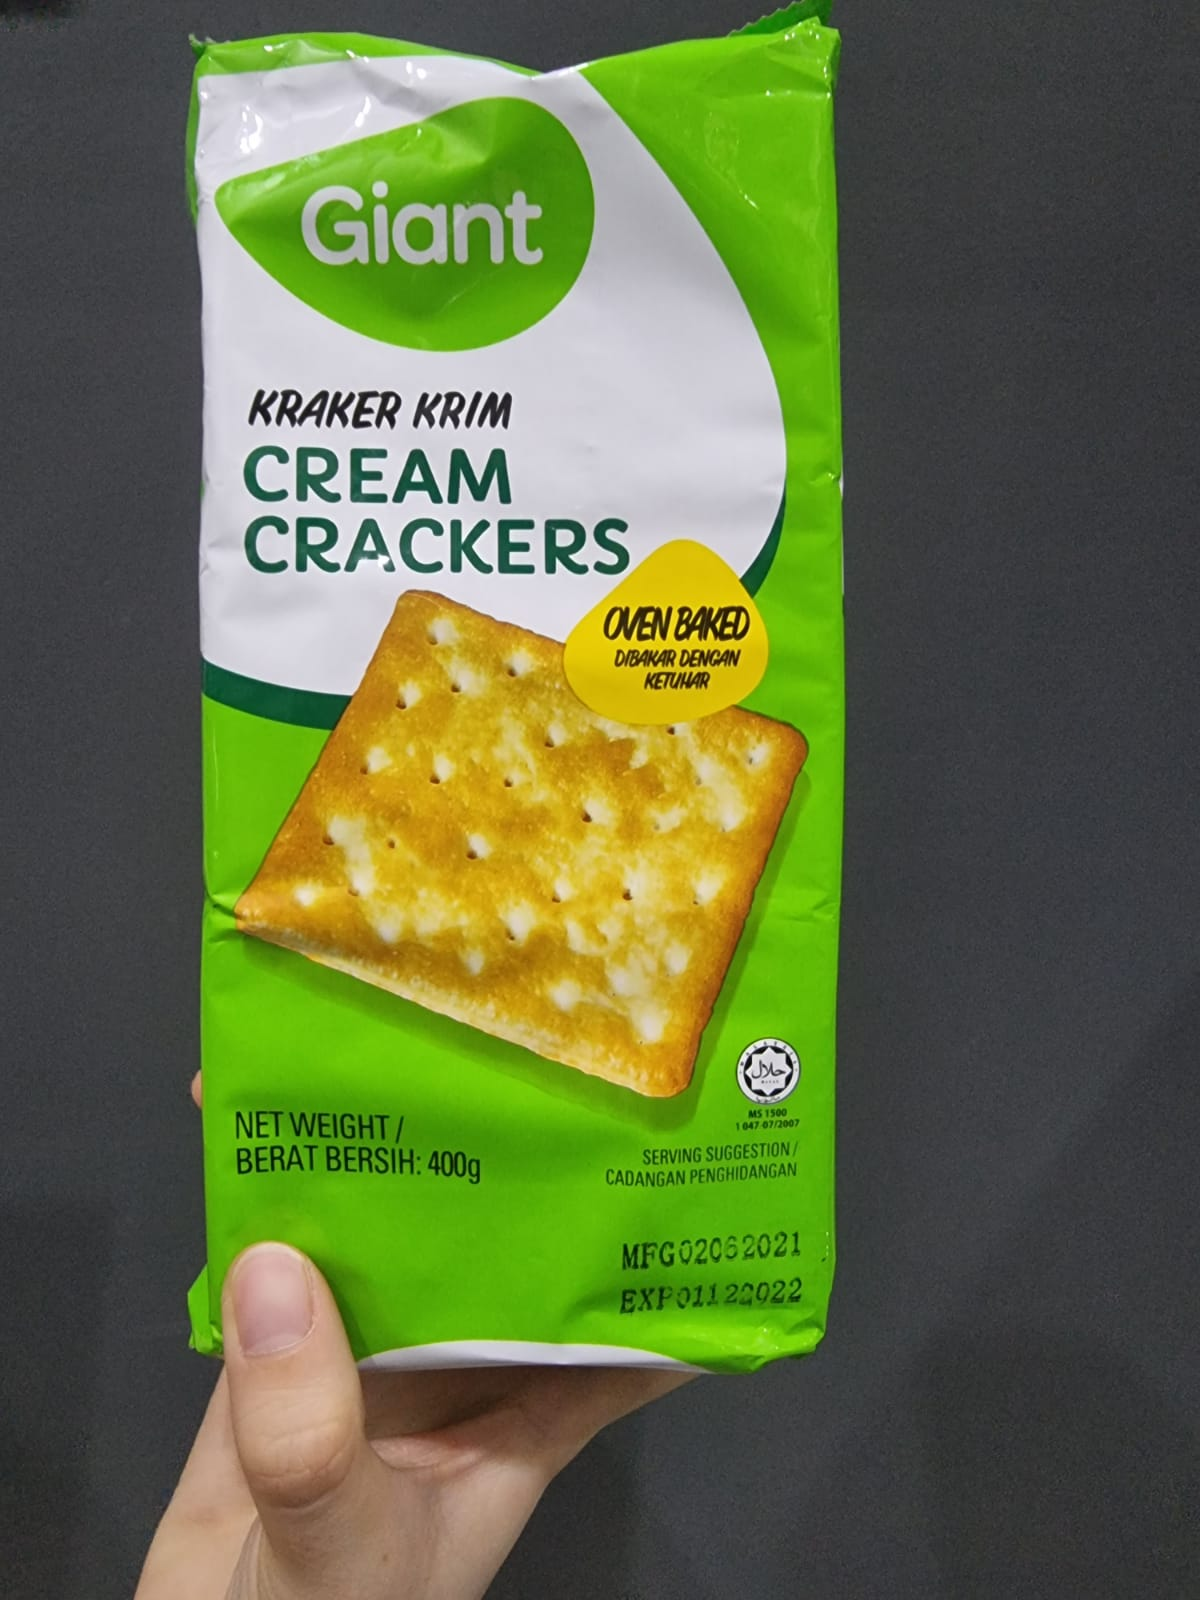Biscuits: (161, 21, 855, 1382)
